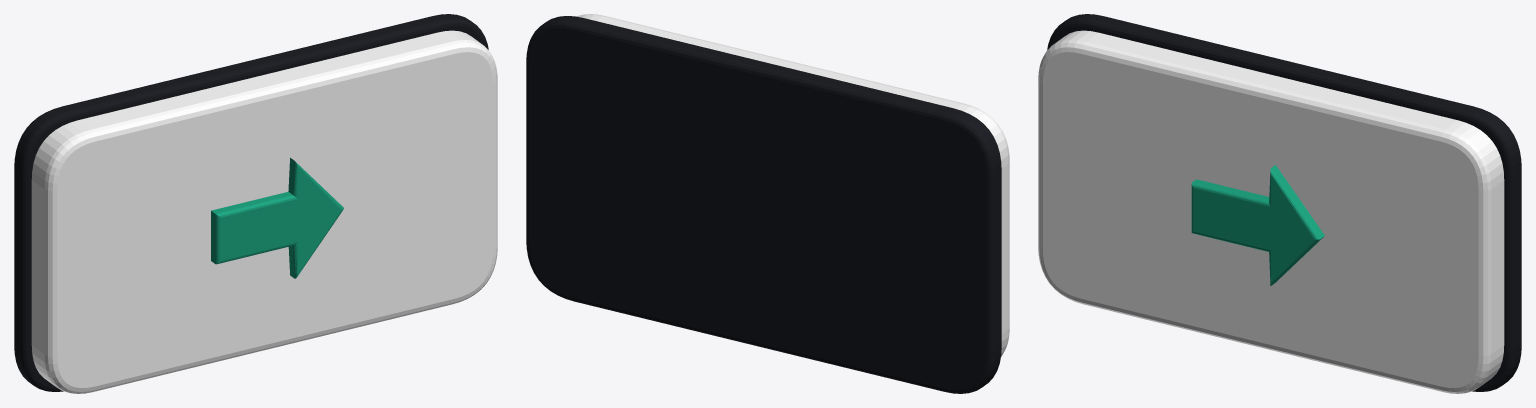
Rendered from key-play.glb.
The picture shows the model from 3 angles, left to right: view 1: azimuth 30°, elevation 25°; view 2: azimuth 150°, elevation 25°; view 3: azimuth 330°, elevation 25°; orthographic projection.
Visible parts, largest first — view 1: key-play-cap, key-play-socket, key-play-icon; view 2: key-play-socket, key-play-cap; view 3: key-play-cap, key-play-socket, key-play-icon.
Boxes of the visible parts, box(x1,y1,x2,y2) form: key-play-cap: box(31, 30, 497, 393); key-play-socket: box(14, 14, 488, 391); key-play-icon: box(211, 157, 343, 278); key-play-socket: box(526, 16, 1001, 393); key-play-cap: box(576, 14, 1009, 356); key-play-cap: box(1038, 30, 1504, 393); key-play-socket: box(1047, 14, 1521, 391); key-play-icon: box(1191, 165, 1324, 285).
Size of the model in its own units: 1.16 by 0.66 by 0.152.
